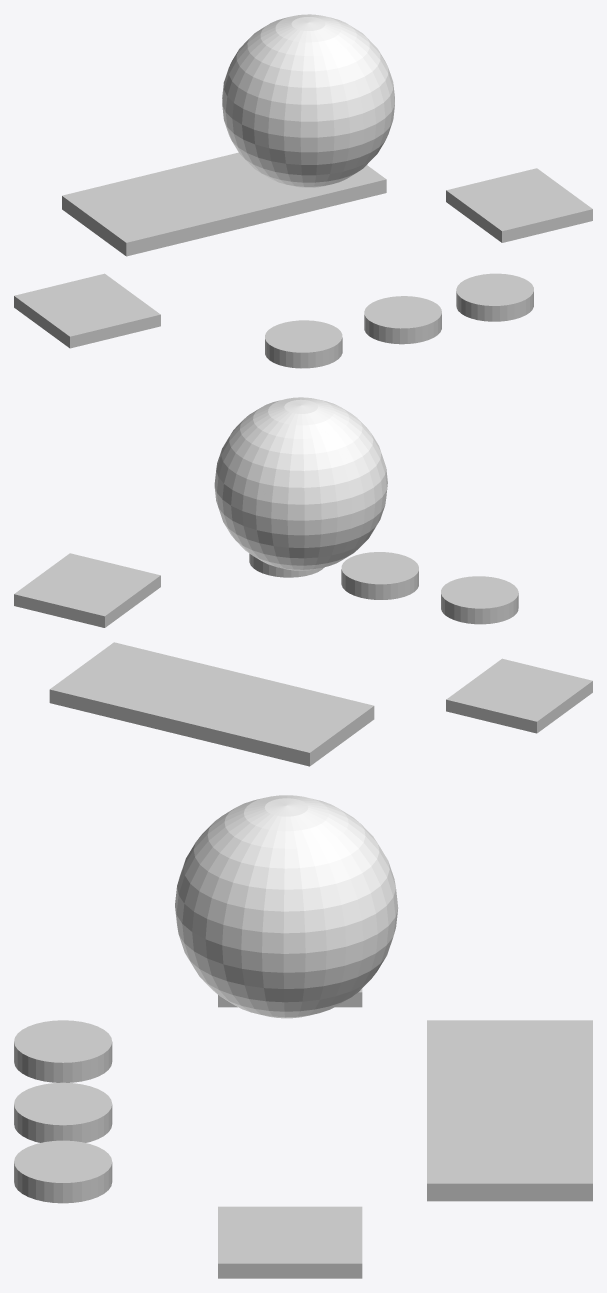
The model's file is 3dtrial.gltf.
The picture shows the model from 3 angles, top to bottom: view 1: azimuth 30°, elevation 25°; view 2: azimuth 150°, elevation 25°; view 3: azimuth 270°, elevation 25°; orthographic projection. The views are drawn at different scales.
Parts seen in each view (by area): view 1: Earth, Cube, Cylinder.002, Cube.001, Cube.002; view 2: Earth, Cube, Cylinder.002, Cube.001, Cube.002; view 3: Earth, Cube, Cylinder.002, Cube.002.
Boxes of the visible parts, x1,y1,x2,y2 form: Earth: (222, 14, 394, 187); Cube: (62, 152, 386, 256); Cylinder.002: (265, 273, 533, 368); Cube.001: (14, 273, 160, 348); Cube.002: (446, 168, 592, 242); Earth: (214, 397, 387, 570); Cube: (49, 642, 374, 766); Cylinder.002: (249, 552, 518, 624); Cube.001: (446, 658, 592, 733); Cube.002: (14, 553, 160, 627); Earth: (175, 795, 398, 1018); Cube: (427, 1020, 592, 1201); Cylinder.002: (14, 1020, 112, 1203); Cube.002: (218, 1206, 362, 1278).
Size of the model in its own units: 6.96 by 3.1 by 5.18.
1 material, 1 textured.
